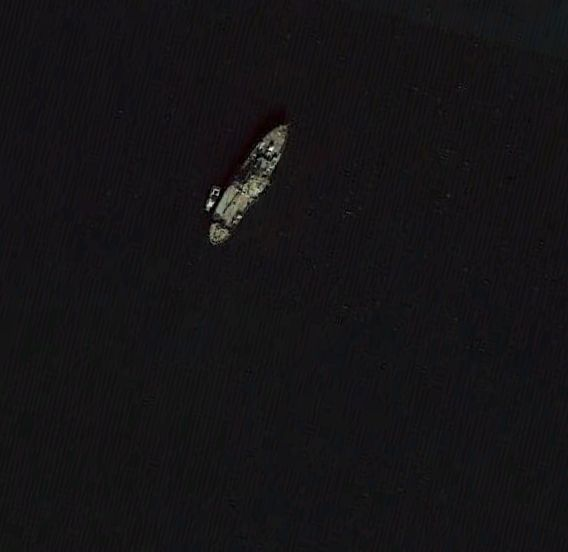boat: (207, 119, 294, 249)
